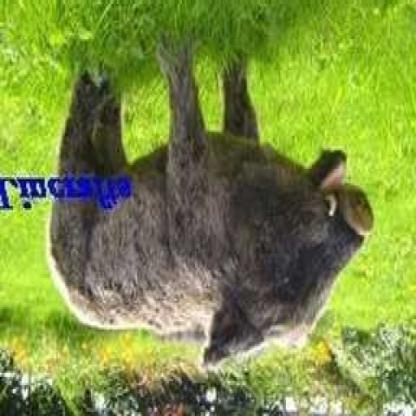boar: (49, 69, 404, 366)
